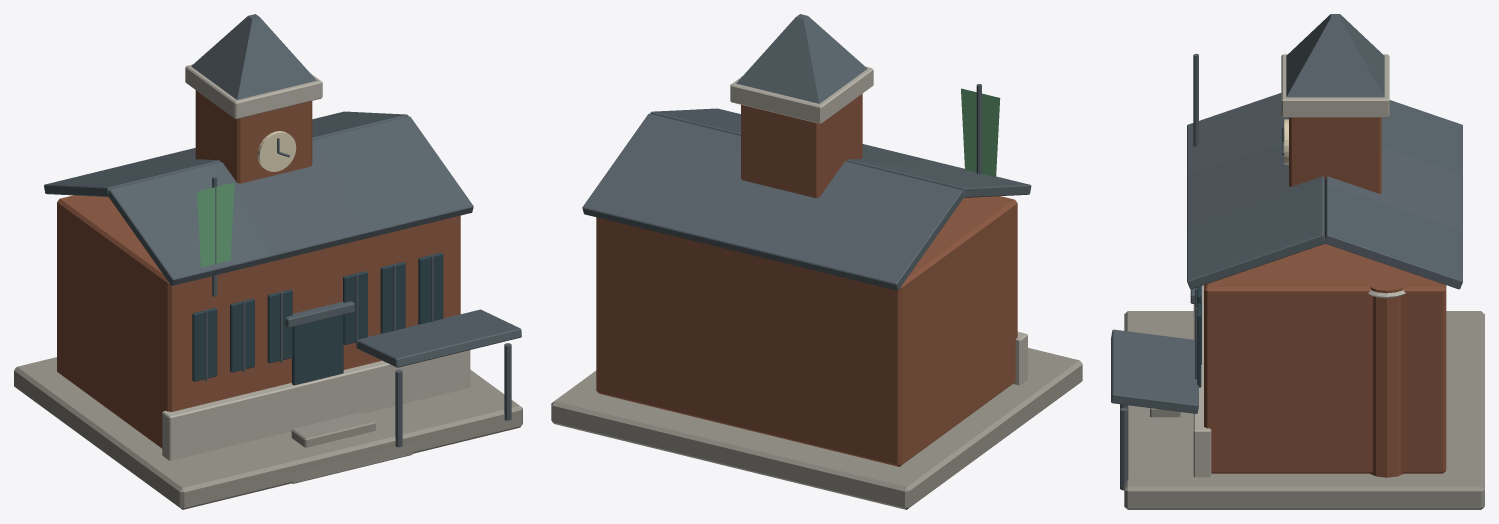
Rendered from edificio-center-e4-BciK-aX_.glb.
The picture shows the model from 3 angles, left to right: view 1: azimuth 30°, elevation 25°; view 2: azimuth 150°, elevation 25°; view 3: azimuth 270°, elevation 25°; orthographic projection. The views are drawn at different scales.
Visible parts, largest first — view 1: centro_e4_mamposteria, centro_e4_cubierta_detalles, centro_e4_estructura, centro_e4_team_color; view 2: centro_e4_mamposteria, centro_e4_cubierta_detalles, centro_e4_estructura, centro_e4_team_color; view 3: centro_e4_mamposteria, centro_e4_cubierta_detalles, centro_e4_estructura.
Part boxes in pixels (box(x1,y1,x2,y2)): centro_e4_mamposteria: box(14, 90, 522, 509); centro_e4_cubierta_detalles: box(44, 14, 521, 385); centro_e4_estructura: box(162, 64, 511, 460); centro_e4_team_color: box(197, 182, 234, 267); centro_e4_mamposteria: box(551, 93, 1082, 509); centro_e4_cubierta_detalles: box(582, 14, 1031, 290); centro_e4_estructura: box(730, 66, 1027, 385); centro_e4_team_color: box(961, 88, 1000, 176); centro_e4_mamposteria: box(1124, 117, 1484, 509); centro_e4_cubierta_detalles: box(1111, 14, 1462, 413); centro_e4_estructura: box(1120, 53, 1405, 490).
Size of the model in its own units: 82 by 87 by 72.53.
